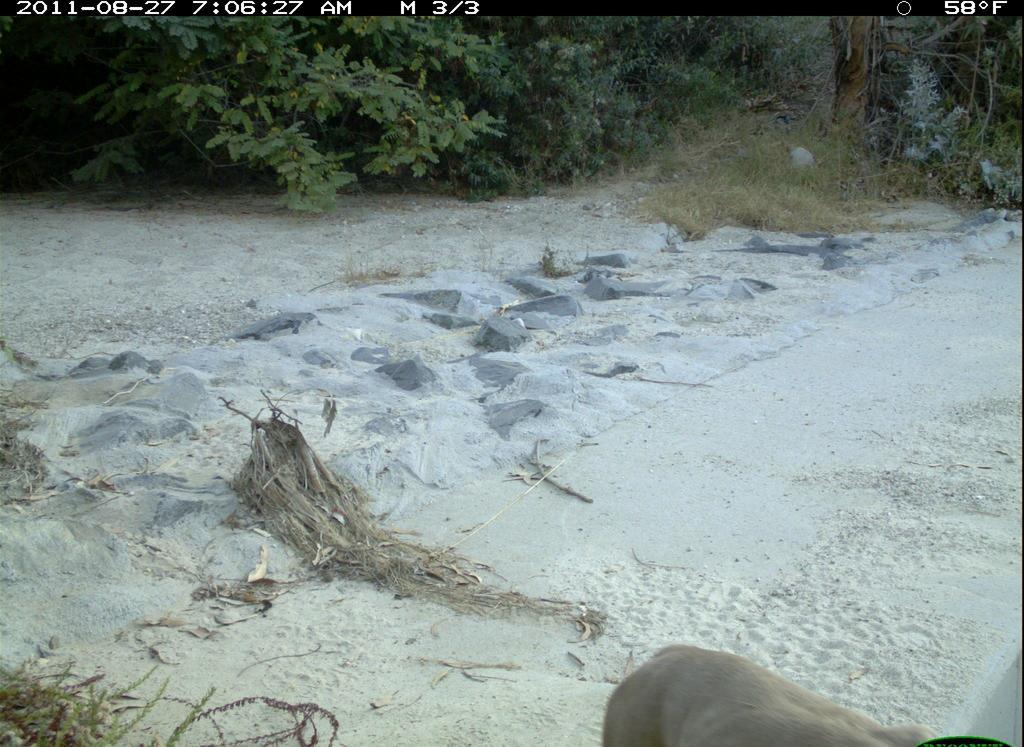dog: (590, 628, 991, 747)
